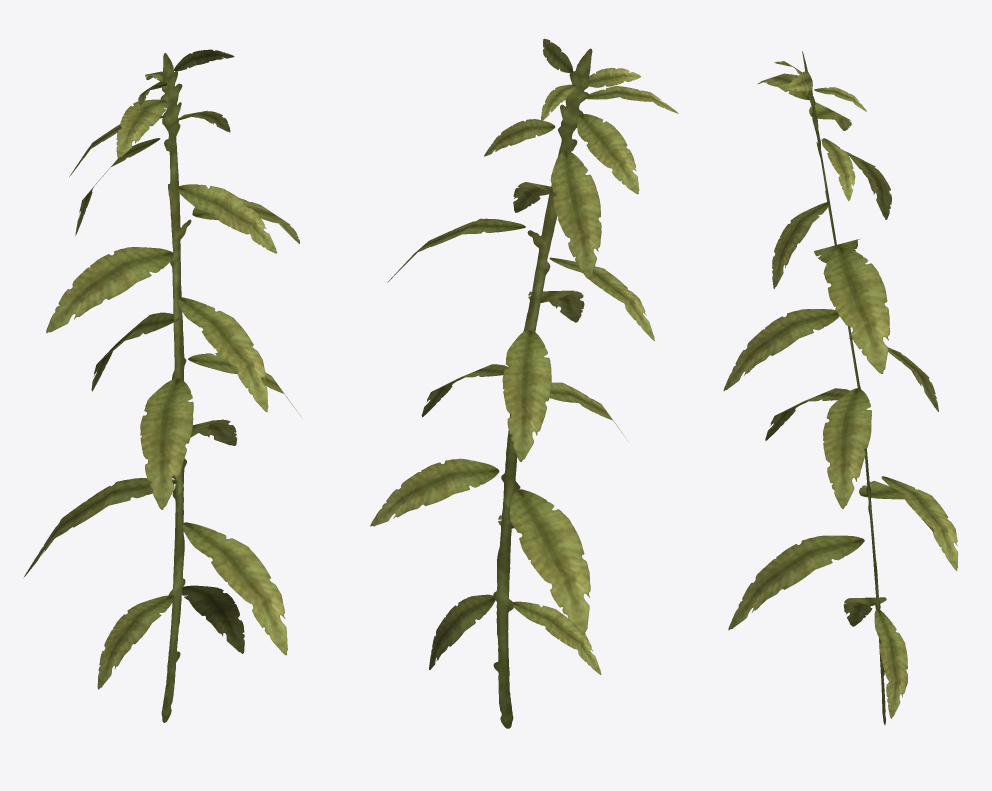
The model's file is Weed.dae.
The picture shows the model from 3 angles, left to right: view 1: azimuth 30°, elevation 25°; view 2: azimuth 150°, elevation 25°; view 3: azimuth 270°, elevation 25°; orthographic projection. The views are drawn at different scales.
Parts seen in each view (by area): view 1: Weed; view 2: Weed; view 3: Weed.
Boxes of the visible parts, x1,y1,x2,y2 form: Weed: [24, 49, 300, 722]; Weed: [370, 38, 678, 728]; Weed: [723, 51, 958, 724].
Size of the model in its own units: 0.417 by 0.3666 by 1.11.
